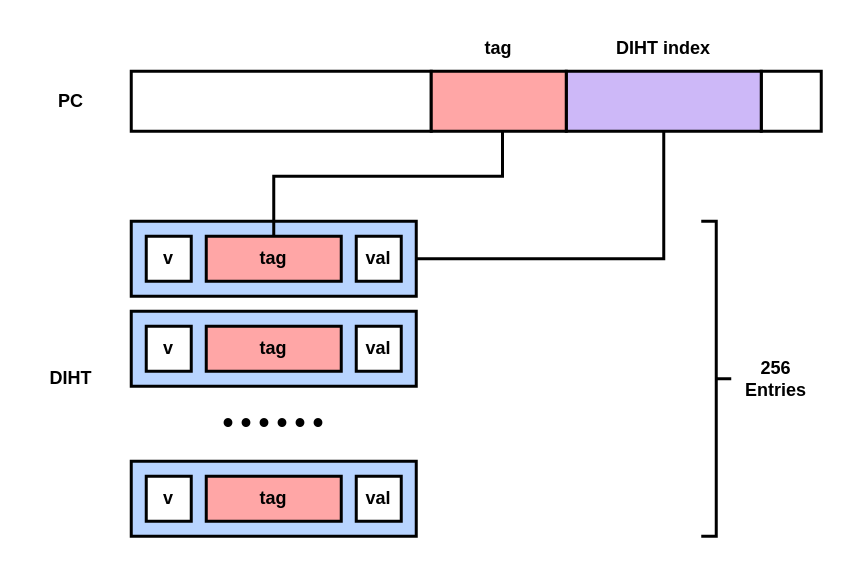
This 848x563 diagram has some shape labels left out. Here are the shapes that lost their labels. From the top down, the box of each, then its label:
(129, 69, 432, 132): 16bits
(429, 69, 567, 132): 6bits
(564, 69, 762, 132): 8bits
(759, 69, 822, 132): 2bits
